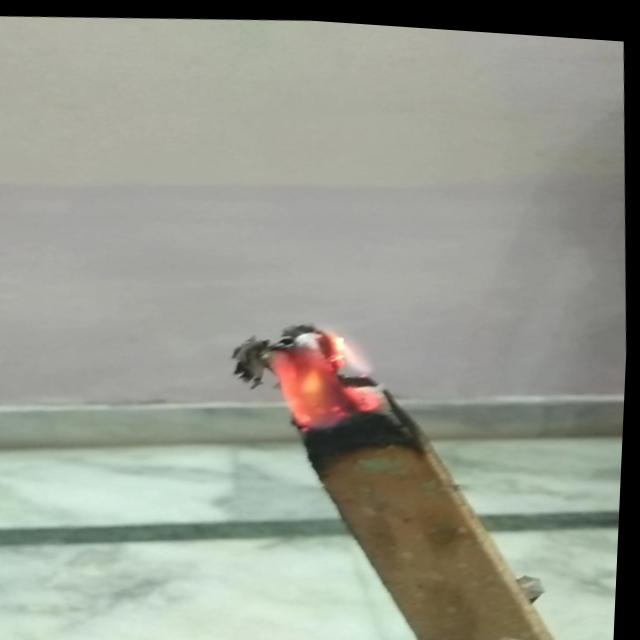fire: (261, 312, 392, 430)
